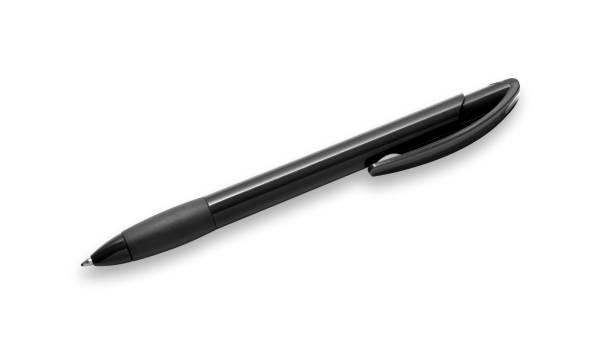pen: (78, 72, 529, 277)
